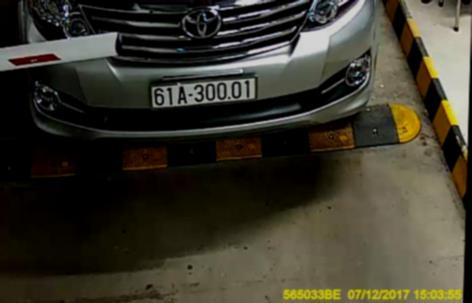License_Plate: (149, 74, 261, 109)
